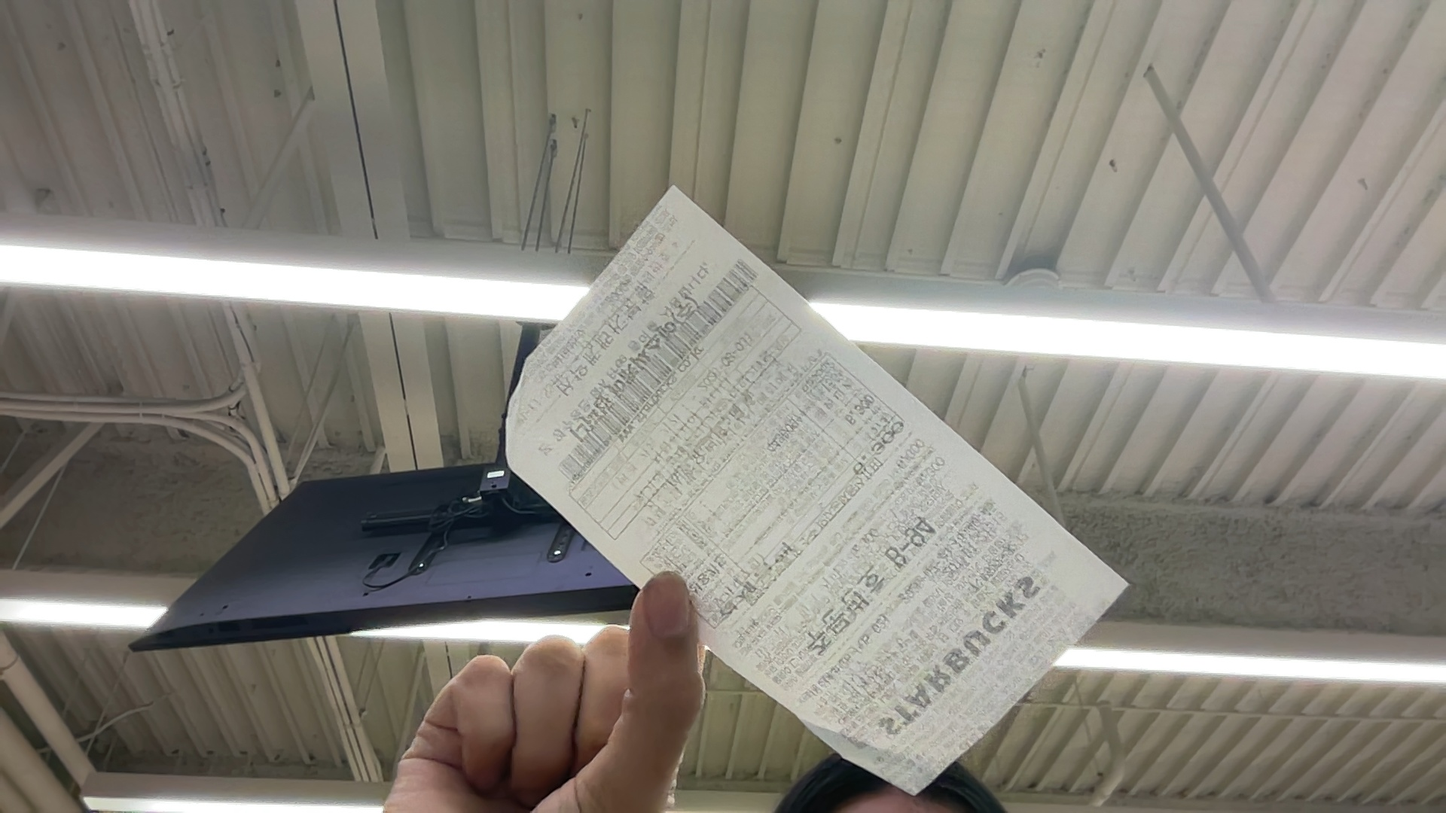Paper: (5, 402, 276, 609)
